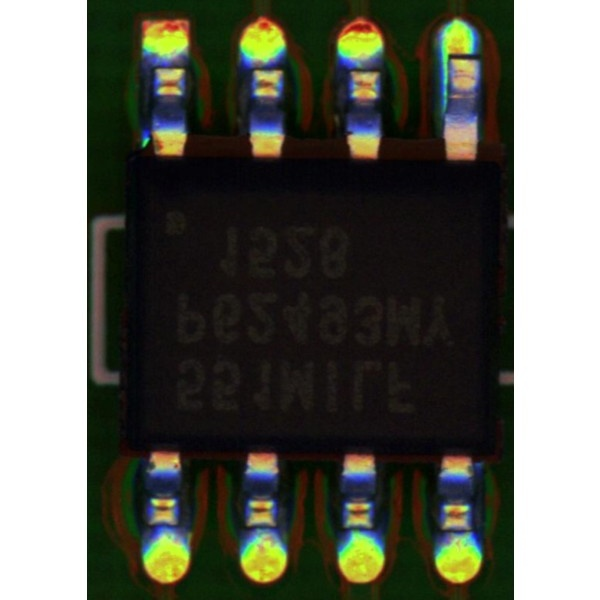Bad_podu: (448, 45, 475, 67)
Bad_qiaojiao: (442, 60, 449, 117)
